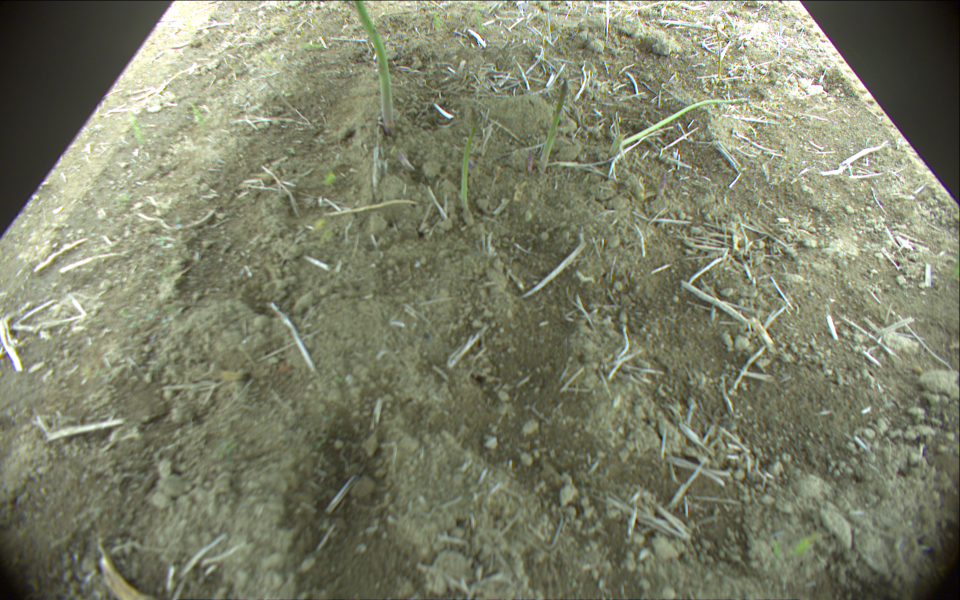aspa: (609, 96, 754, 154), (354, 1, 396, 134), (541, 73, 570, 171), (457, 110, 479, 224), (658, 172, 667, 197)
